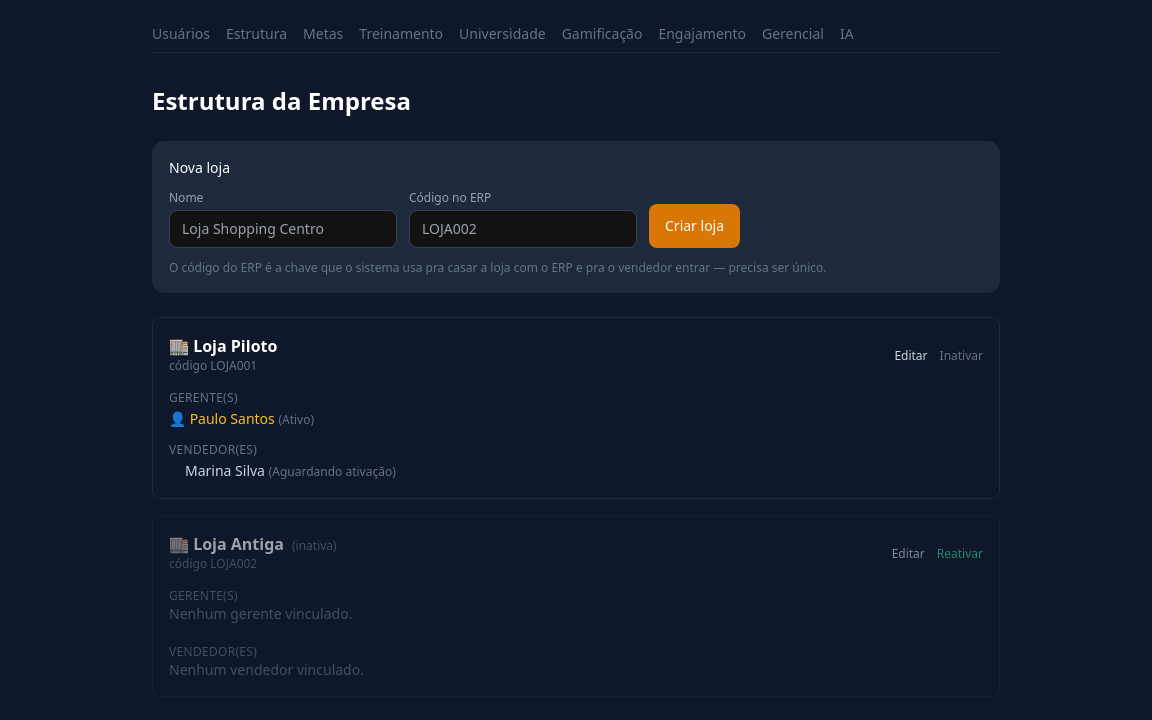
Test: AdminEstrutura › mostra o motivo quando o backend recusa inativar loja com gente ativa
Check: the text "🏬 Loja Piloto" is shown, box [169, 334, 277, 358]
Click the button "Inativar" at (961, 356), box [940, 334, 983, 378]
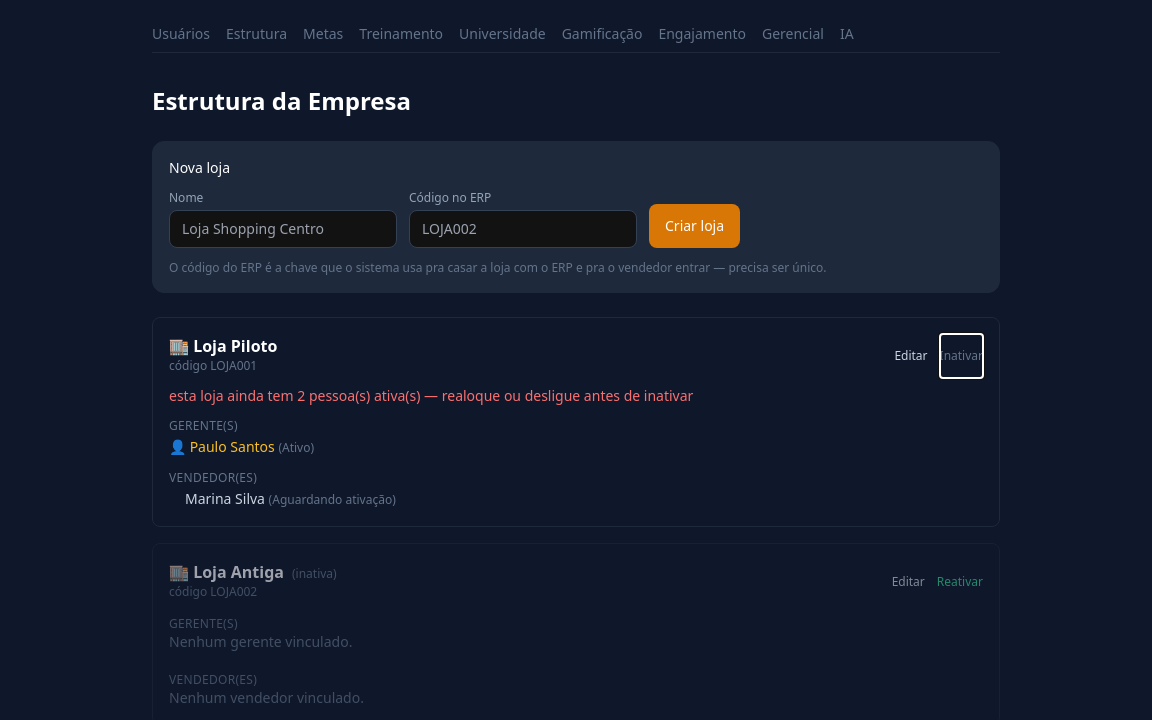
Check: the text "realoque ou desligue antes de inativar" is shown, box [169, 386, 693, 405]
